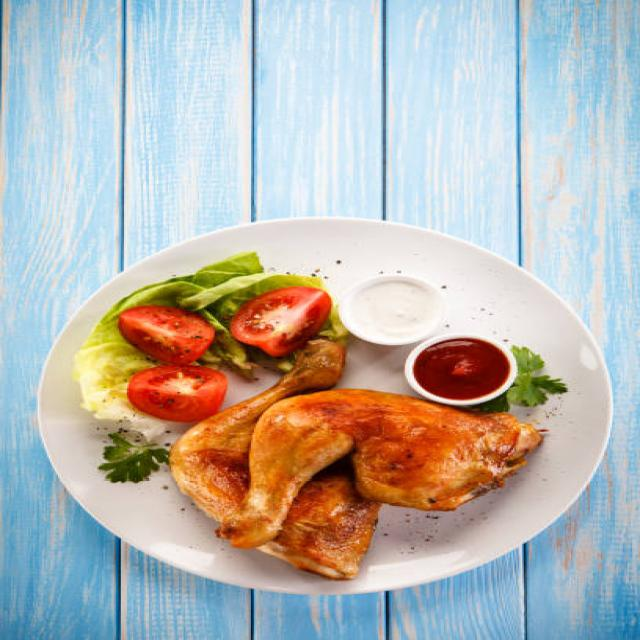CHICKEN FRY: (173, 339, 536, 577)
